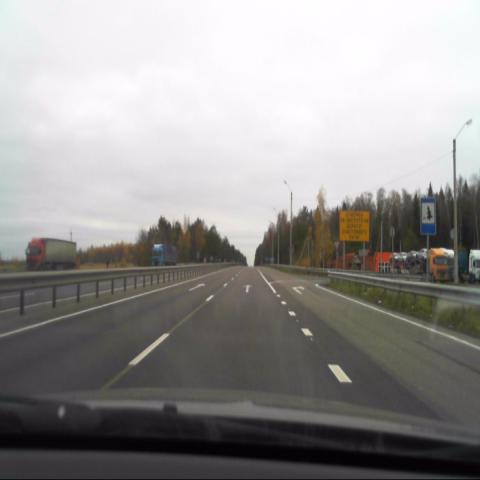7_11: (420, 197, 436, 234)
